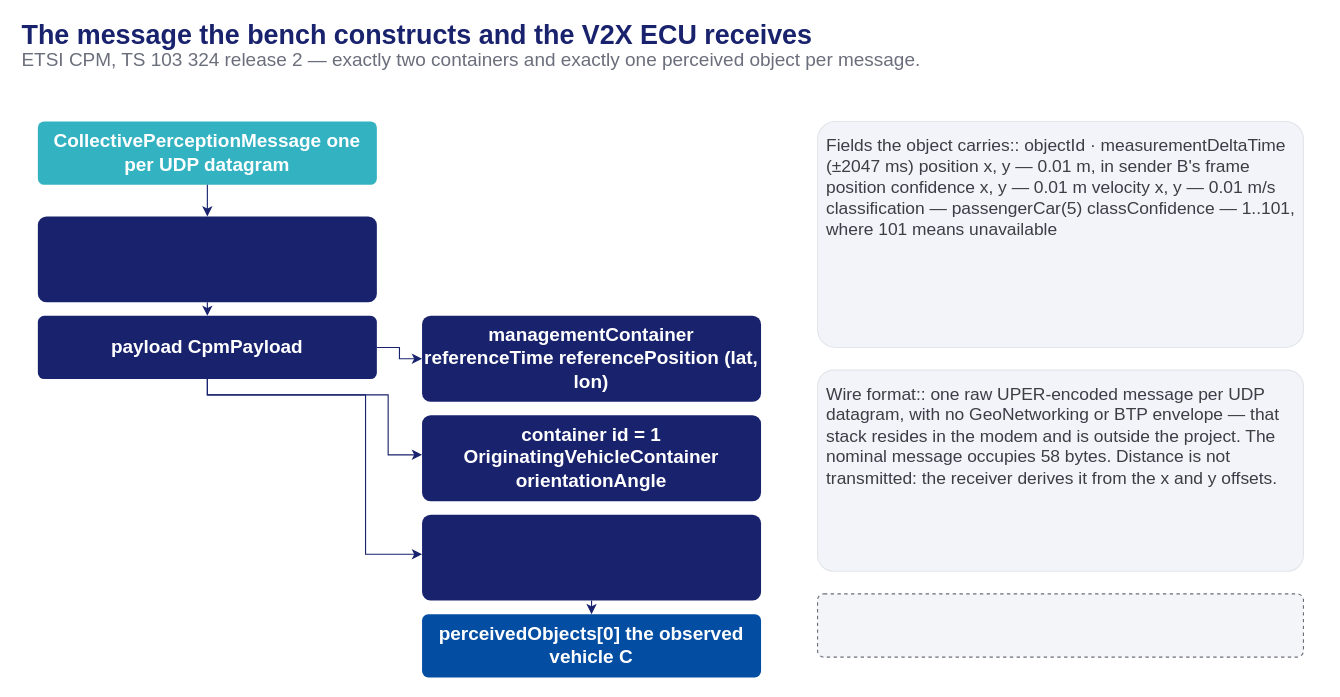
Image size: 1340x697. Some labels were removed from this diagram. The shapes that lost their labels are listed below. From the top down, each one's centre as x and y in pixels, then its label:
At point 206,259: "header protocolVersion = 2 · messageId = 14 stationId = sender B".
At point 590,557: "container id = 5 PerceivedObjectContainer numberOfPerceivedObjects = 1".
At point 1059,625: "unused by design containers 2, 3 and 4, and 14 optional object fields".
